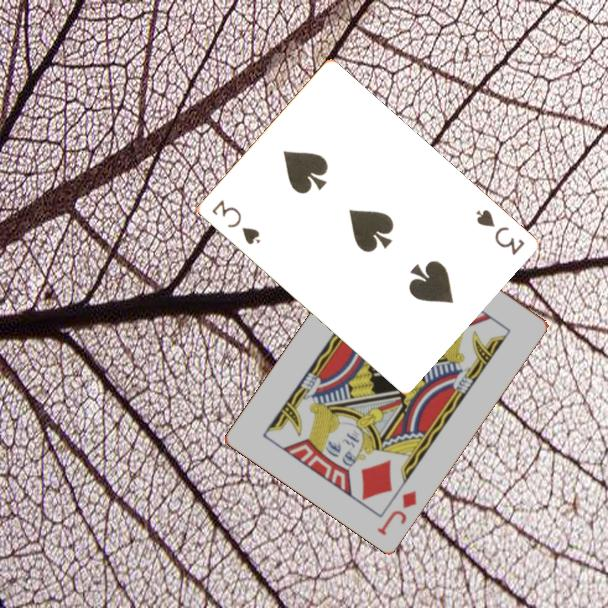d11: (373, 486, 420, 538)
s03: (207, 196, 263, 248), (472, 206, 527, 258)
